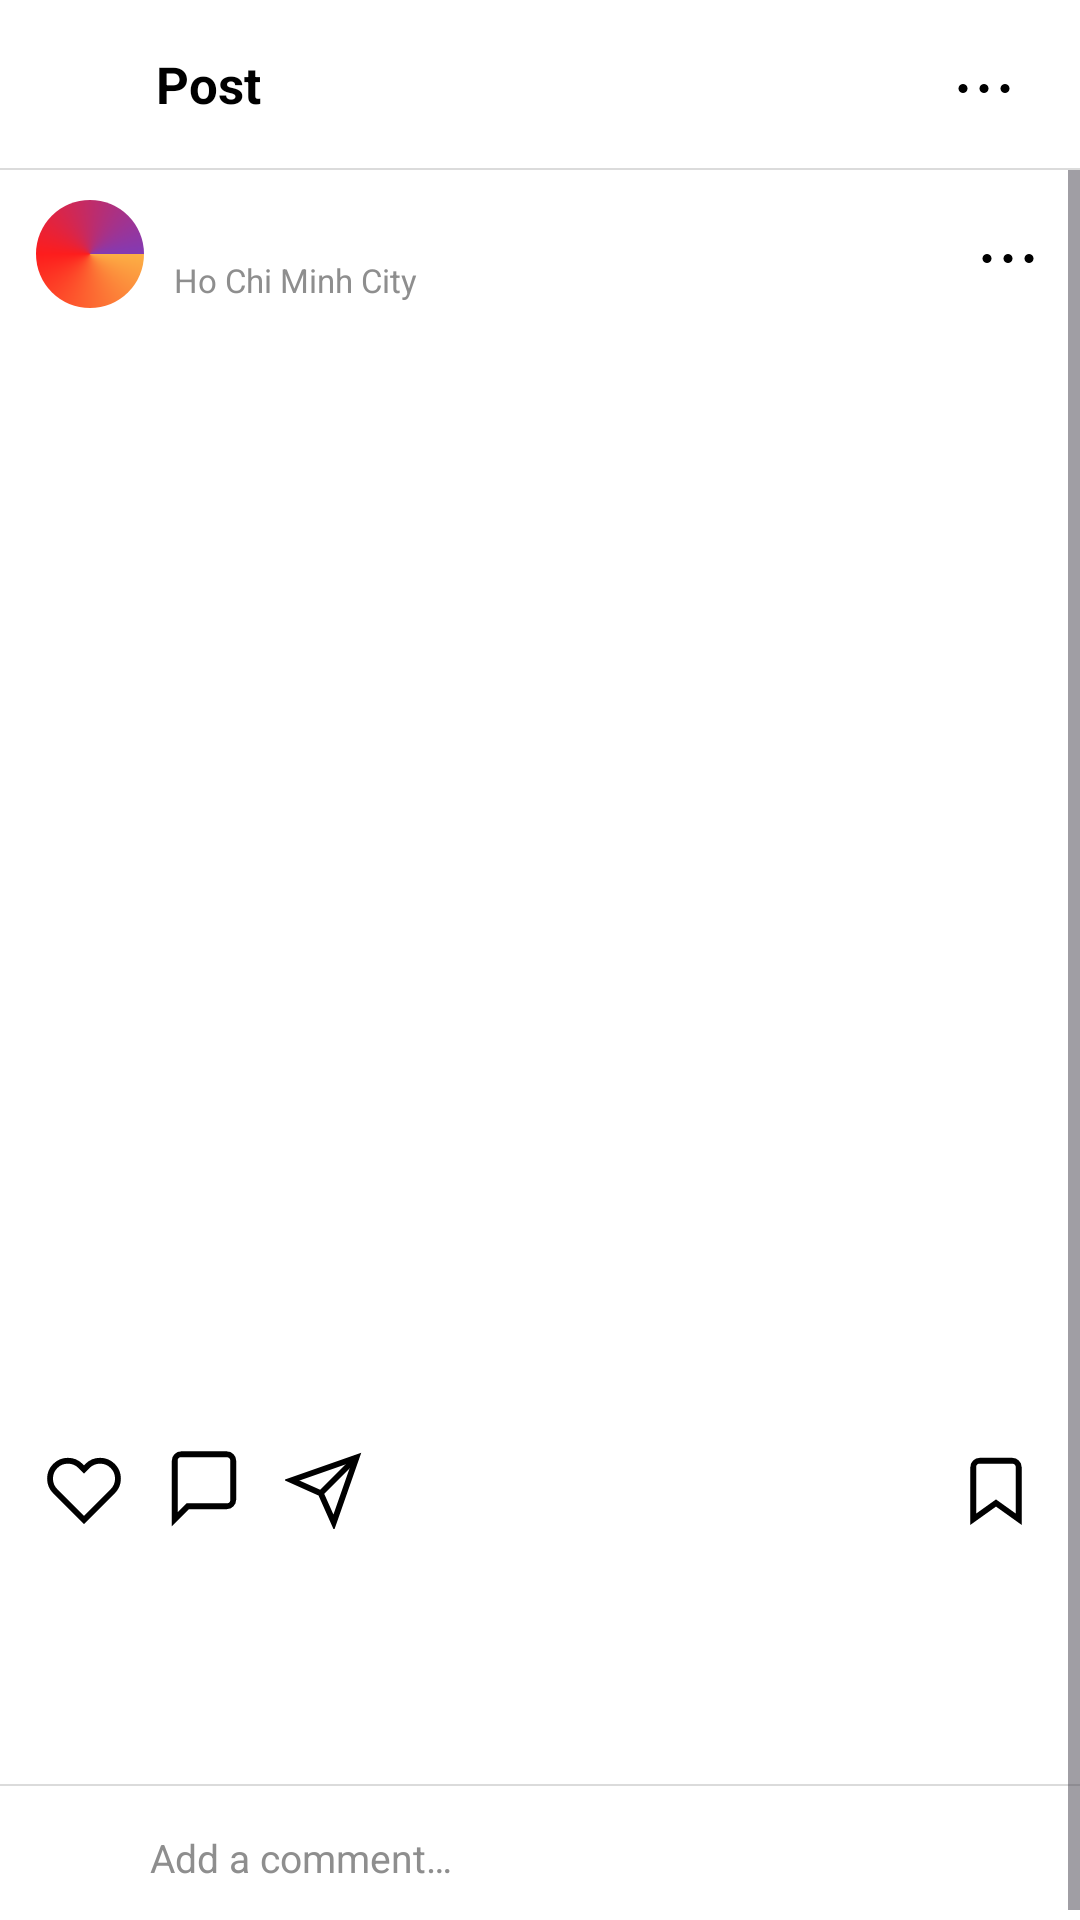

Icons on this 1080 x 1920 Android screen, each with its box as (x1, y1, x2, y2):
Bookmark: (970, 1457, 1022, 1525)
Comment: (171, 1451, 237, 1526)
Like: (47, 1457, 121, 1524)
More: (958, 84, 1010, 93), (982, 254, 1034, 263)
Share: (285, 1453, 361, 1529)
